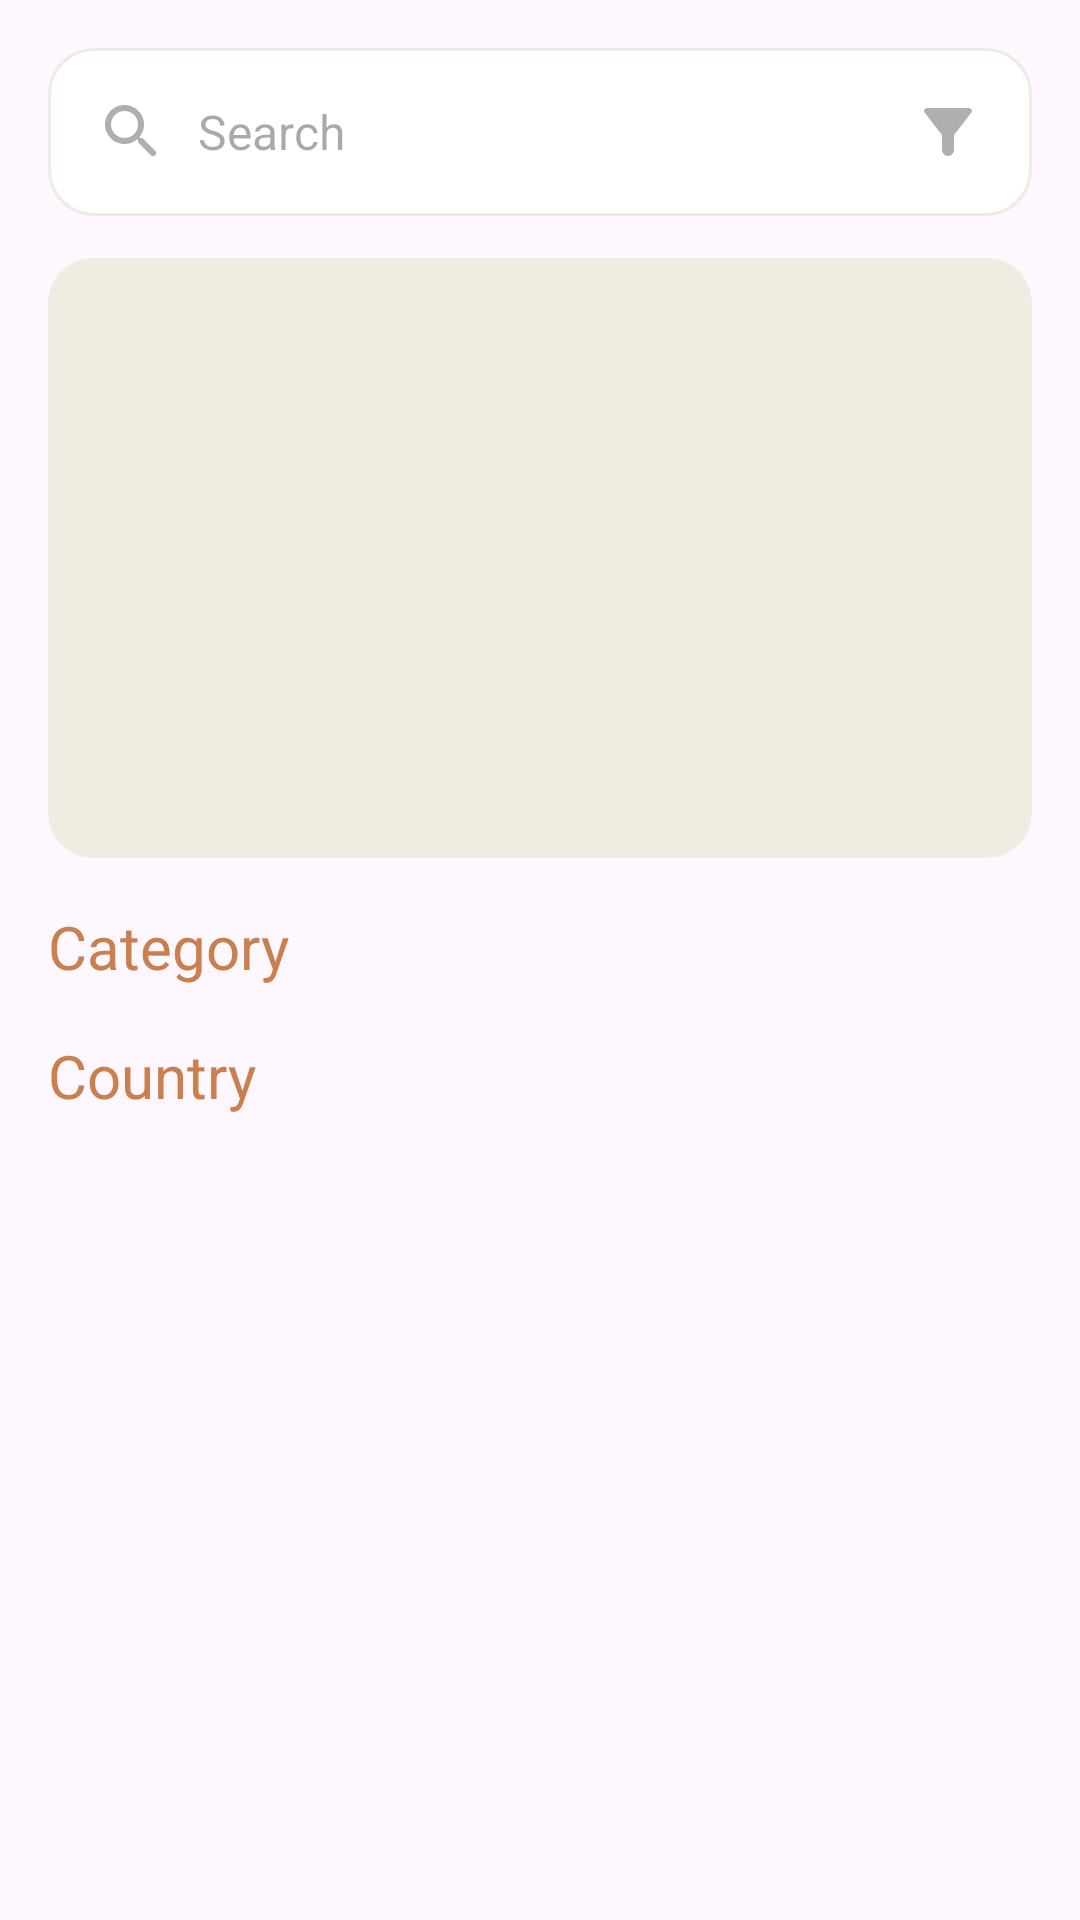

Named icons in this screenshot (1080px x 1920px) and their centers, (x=x, y=y):
filter: (x=948, y=132)
